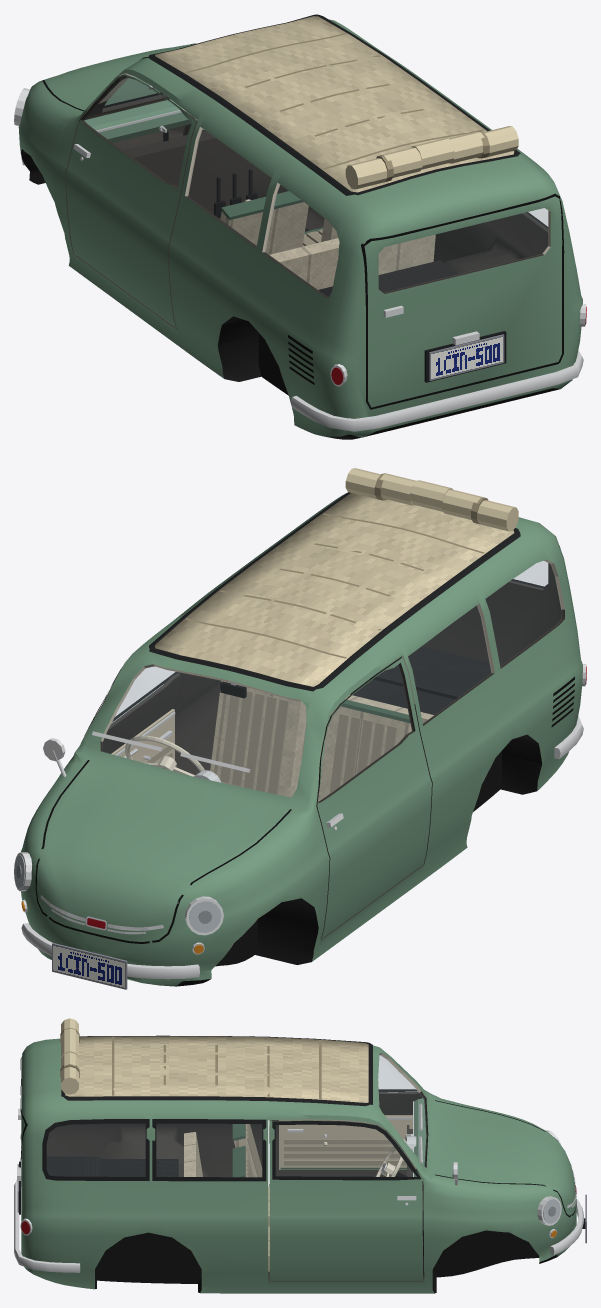
Rendered from giardiniera.glb.
3 renders of one model, top to bottom at view 1: azimuth 30°, elevation 25°; view 2: azimuth 150°, elevation 25°; view 3: azimuth 270°, elevation 25°, orthographic. The views are drawn at different scales.
Parts seen in each view (by area): view 1: Body, Roof_Closed, Glass, Interior, Door_L, Door_L_Glass, Roof_Open; view 2: Body, Roof_Closed, Glass, Interior, Door_L, Door_L_Glass, Roof_Open, Door_R, Lights_Head, SteeringWheel; view 3: Body, Roof_Closed, Door_R, Glass, Door_L, Door_R_Glass, Interior, Roof_Open, SteeringWheel.
Part boxes in pixels (left/top/right/bottom): Body: left=14, top=14, right=586, bottom=439; Roof_Closed: left=155, top=16, right=514, bottom=192; Glass: left=136, top=78, right=548, bottom=296; Interior: left=84, top=99, right=458, bottom=296; Door_L: left=66, top=74, right=197, bottom=329; Door_L_Glass: left=84, top=77, right=191, bottom=187; Roof_Open: left=345, top=126, right=518, bottom=189; Body: left=14, top=492, right=586, bottom=989; Roof_Closed: left=155, top=493, right=514, bottom=686; Glass: left=102, top=561, right=561, bottom=796; Interior: left=194, top=646, right=500, bottom=801; Door_L: left=316, top=656, right=431, bottom=939; Door_L_Glass: left=318, top=665, right=412, bottom=801; Roof_Open: left=345, top=468, right=518, bottom=531; Door_R: left=81, top=668, right=183, bottom=762; Lights_Head: left=14, top=855, right=221, bottom=932; SteeringWheel: left=125, top=735, right=204, bottom=776; Body: left=14, top=1035, right=586, bottom=1293; Roof_Closed: left=65, top=1036, right=368, bottom=1102; Door_R: left=269, top=1120, right=423, bottom=1281; Glass: left=47, top=1055, right=426, bottom=1176; Door_L: left=269, top=1089, right=422, bottom=1186; Door_R_Glass: left=276, top=1125, right=416, bottom=1176; Interior: left=46, top=1098, right=426, bottom=1279; Roof_Open: left=60, top=1018, right=79, bottom=1094; SteeringWheel: left=376, top=1139, right=406, bottom=1176.
Bounding box in the file's own units: 1.35 × 1.32 × 3.29.
27 materials, 6 textured.
